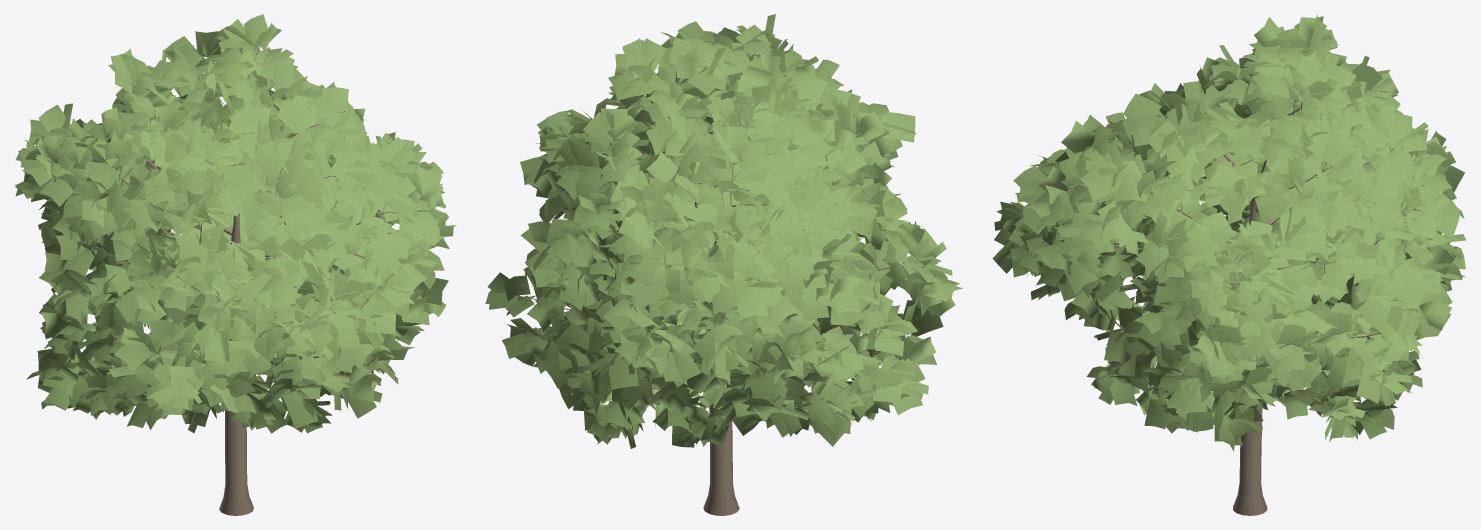
Rendered from Broadleaf_1_lod0.glb.
3 renders of one model, left to right at view 1: azimuth 30°, elevation 25°; view 2: azimuth 150°, elevation 25°; view 3: azimuth 270°, elevation 25°, orthographic. The views are drawn at different scales.
Parts seen in each view (by area): view 1: Broadleaf_1_lod0; view 2: Broadleaf_1_lod0; view 3: Broadleaf_1_lod0.
Boxes of the visible parts, box(x1,y1,x2,y2) form: Broadleaf_1_lod0: box(15, 14, 456, 515); Broadleaf_1_lod0: box(485, 14, 962, 515); Broadleaf_1_lod0: box(992, 14, 1465, 515).
Bounding box in the file's own units: 11.18 × 12.45 × 11.64.
